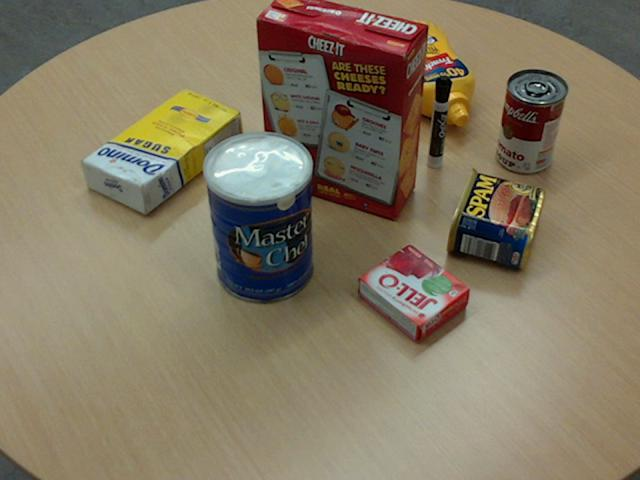cracker_box: (255, 0, 427, 218)
gelatin_box: (358, 243, 471, 341)
large_marker: (426, 76, 451, 167)
master_chef_can: (202, 131, 312, 303)
mug: (283, 33, 358, 125)
mustard_bottle: (372, 20, 474, 126)
potted_meat_can: (444, 167, 543, 267)
sugar_box: (80, 87, 242, 213)
tomato_soup_can: (496, 68, 566, 172)
tuna_fish_can: (301, 22, 363, 76)
